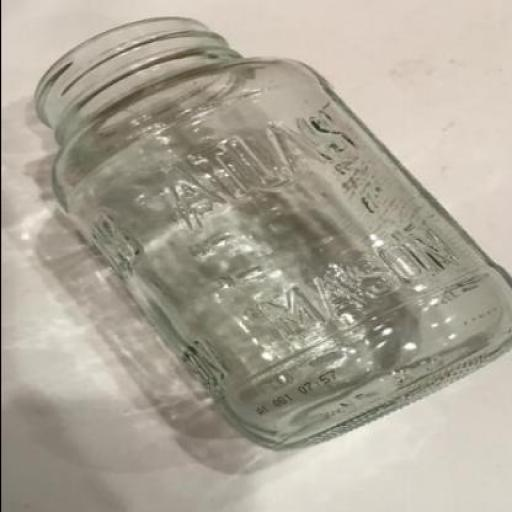glass: (33, 14, 511, 452)
